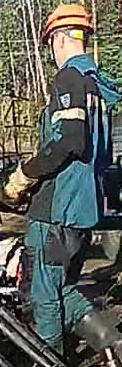gloves: (0, 158, 36, 210)
helmet: (41, 3, 94, 44)
vest: (24, 62, 116, 229)
